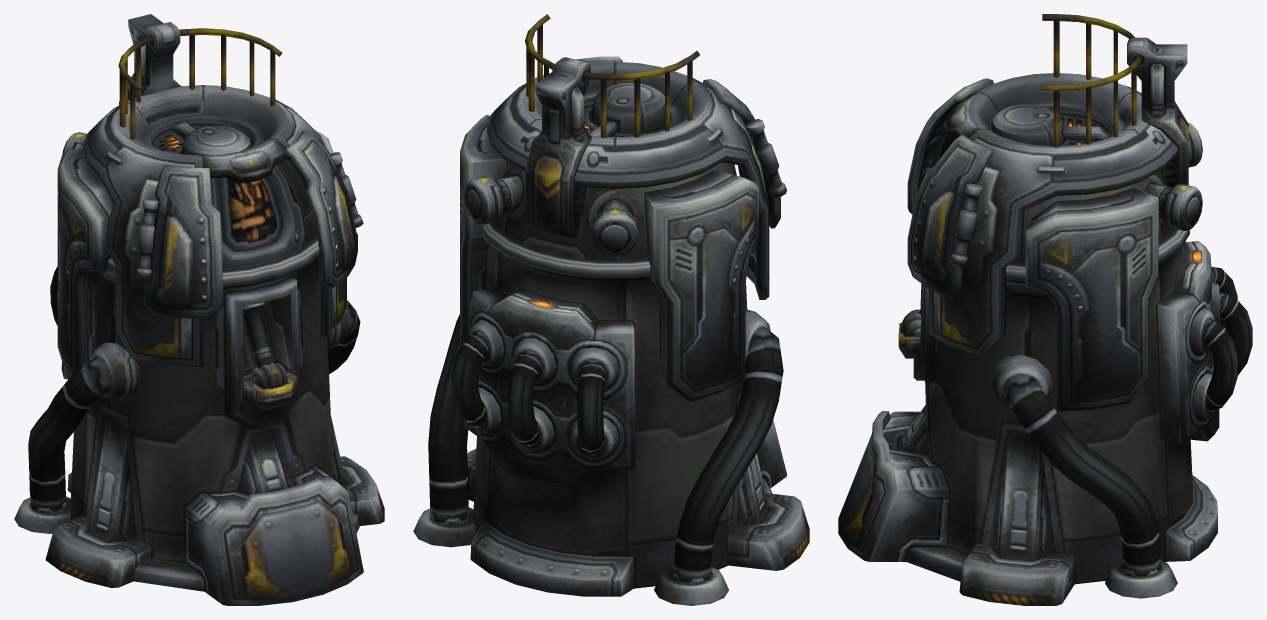
File: SpaceTurbine_00_MP.glb
3 views of the same model, side by side, from view 1: azimuth 30°, elevation 25°; view 2: azimuth 150°, elevation 25°; view 3: azimuth 270°, elevation 25° (orthographic). The views are drawn at different scales.
Visible parts, largest first — view 1: Mesh; view 2: Mesh; view 3: Mesh.
Part boxes in pixels (x1,y1,x2,y2): Mesh: (14,14,384,605); Mesh: (413,14,809,605); Mesh: (838,14,1252,605).
Bounding box in the file's own units: 2.01 × 2.84 × 2.21.
Materials: 1 (1 with a texture image).
